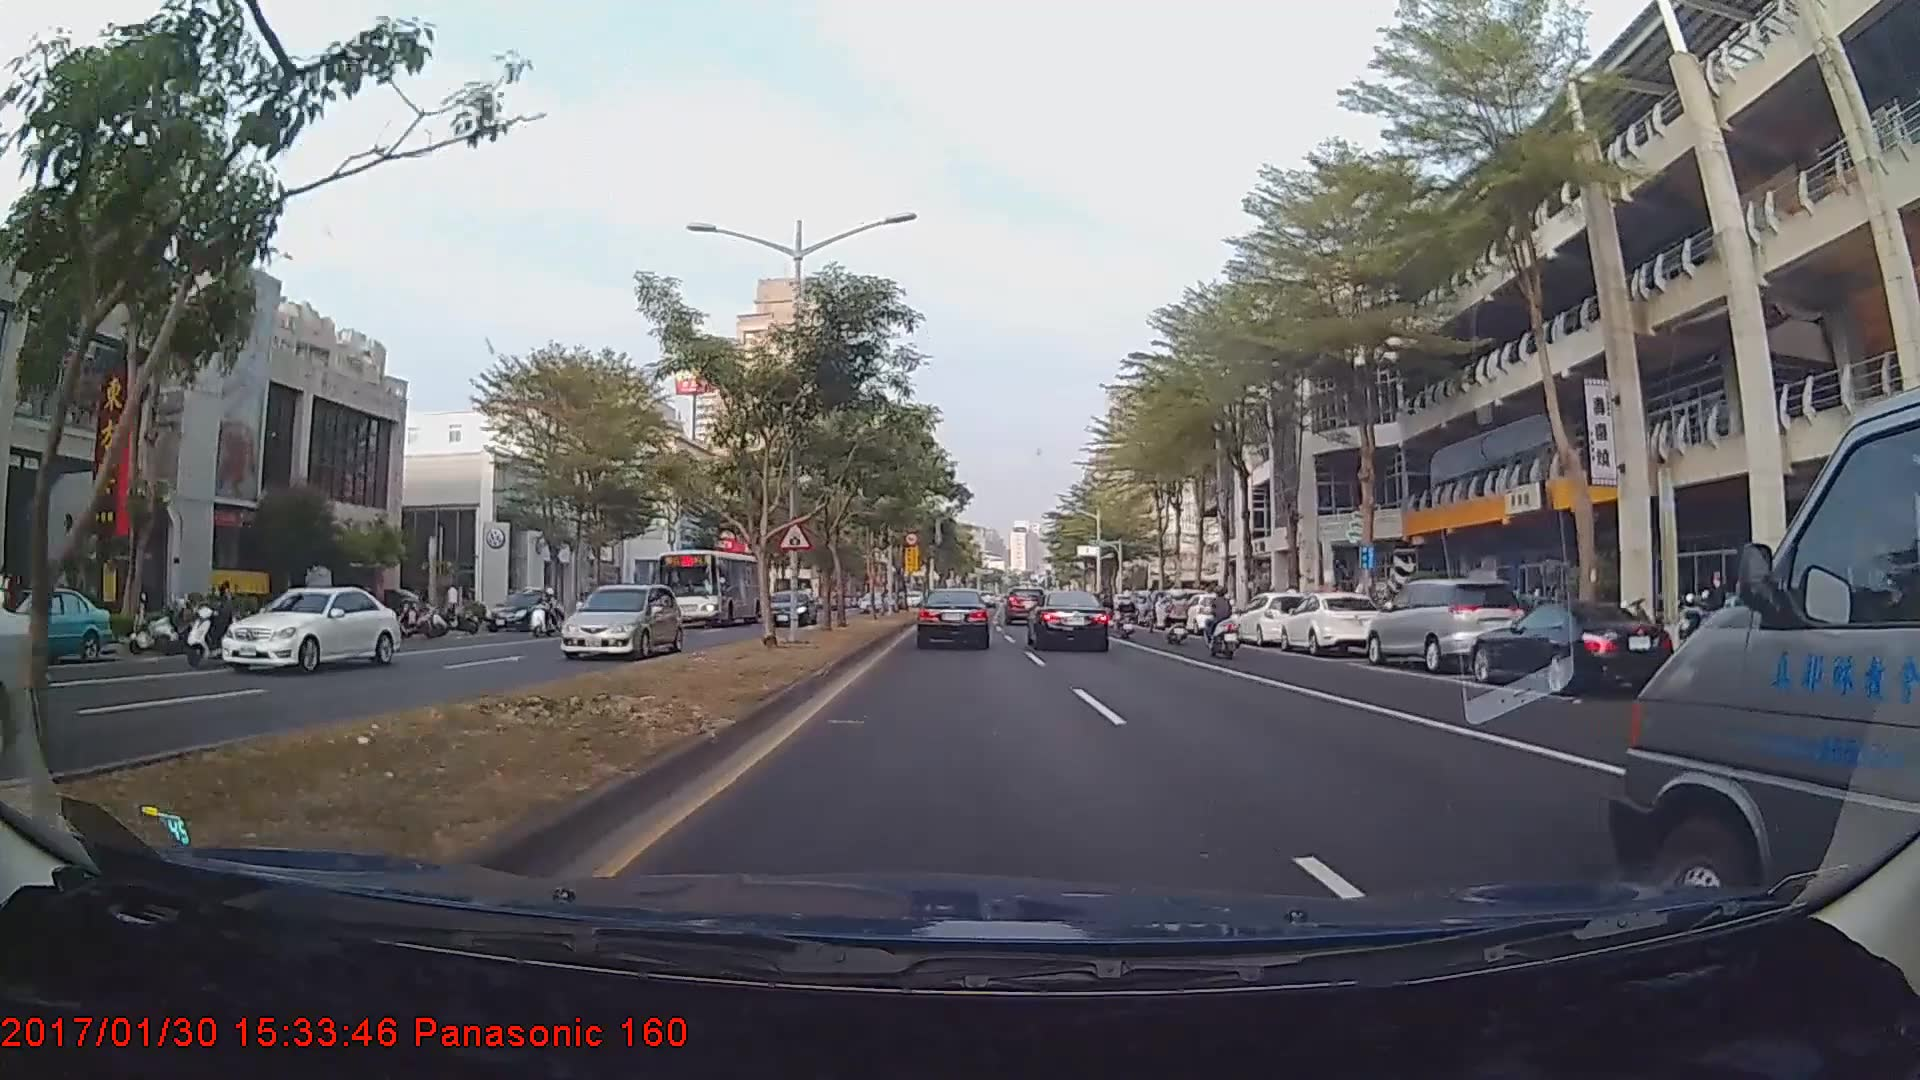rider: (184, 578, 247, 664), (1200, 582, 1249, 660), (1151, 590, 1201, 646), (528, 586, 558, 635), (1112, 586, 1139, 638)
vehicle: (1622, 443, 1913, 891), (1468, 602, 1673, 695), (217, 583, 405, 677), (1366, 571, 1531, 672), (557, 581, 682, 661), (654, 548, 765, 628), (0, 586, 114, 661), (1277, 588, 1383, 652), (1028, 588, 1112, 652), (917, 587, 991, 650), (1230, 588, 1314, 645), (1177, 592, 1237, 633), (761, 589, 813, 625), (1005, 582, 1046, 621)
